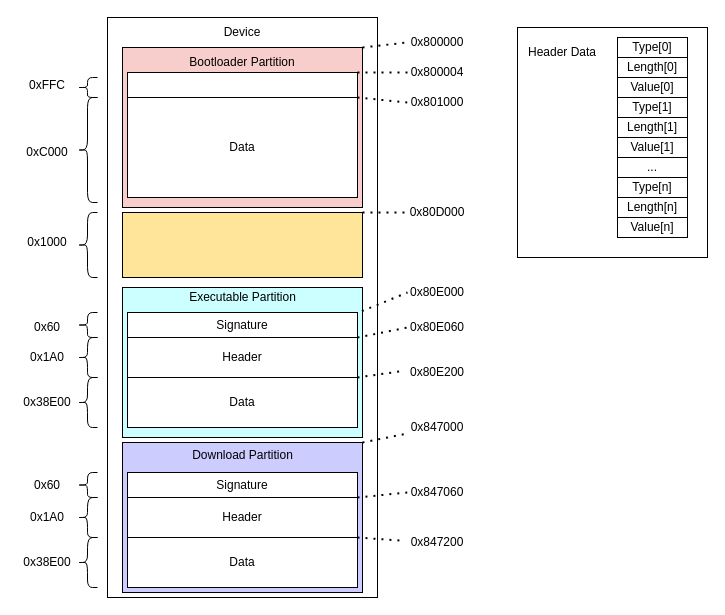
This 725x615 diagram has some shape labels left out. Here are the shapes that lost their labels. From the top down, the centre of each, then its label:
At point (242, 85): "IVT".
At point (242, 245): "Keystore Partition".
